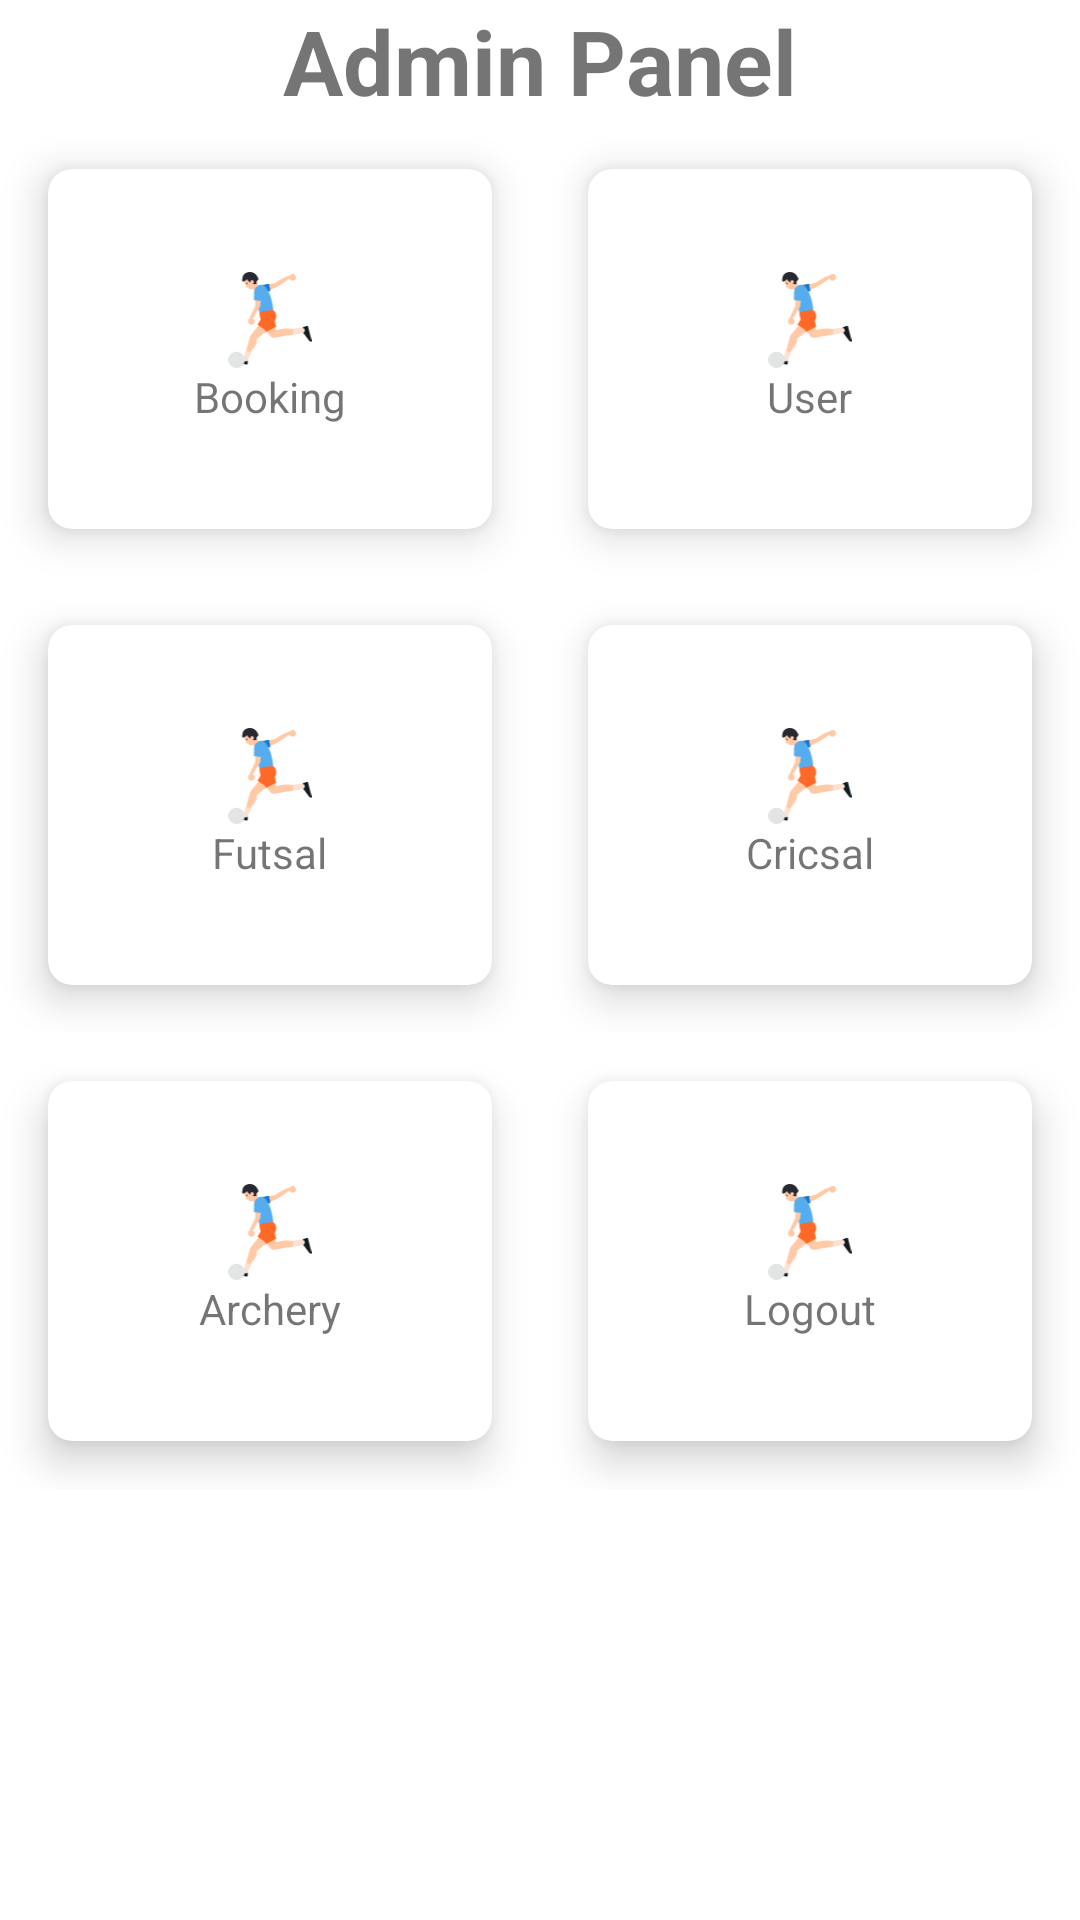

Icon click points for this 1080 x 1920 phone screenshot, format point (x, y):
football: point (270, 320), point (810, 320), point (270, 776), point (810, 776), point (270, 1232), point (810, 1232)
